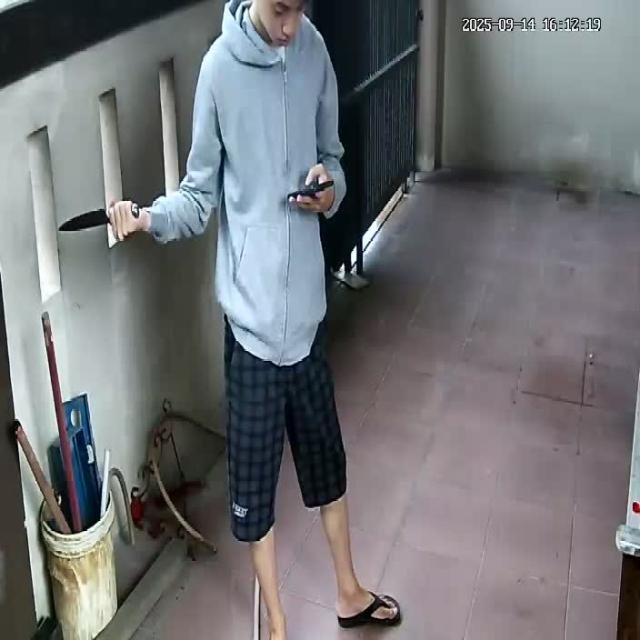senjata_tajam: (56, 207, 112, 232)
